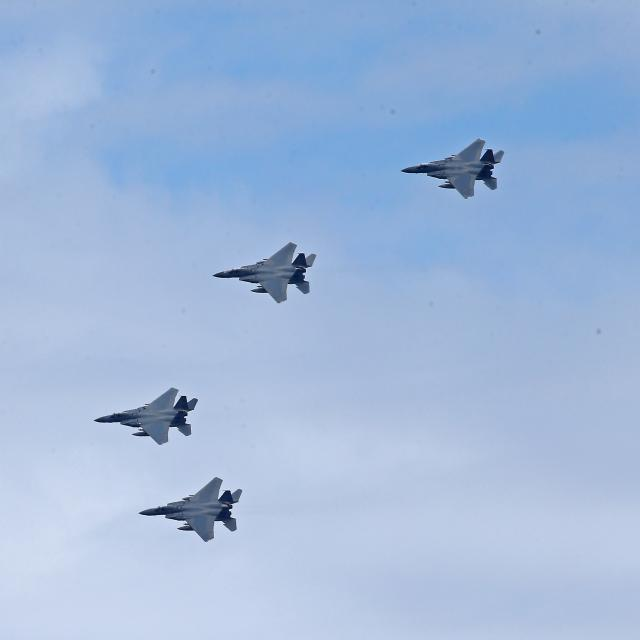MIL_Plane: (138, 476, 243, 542), (212, 242, 316, 304), (400, 138, 505, 199), (94, 387, 198, 445)
